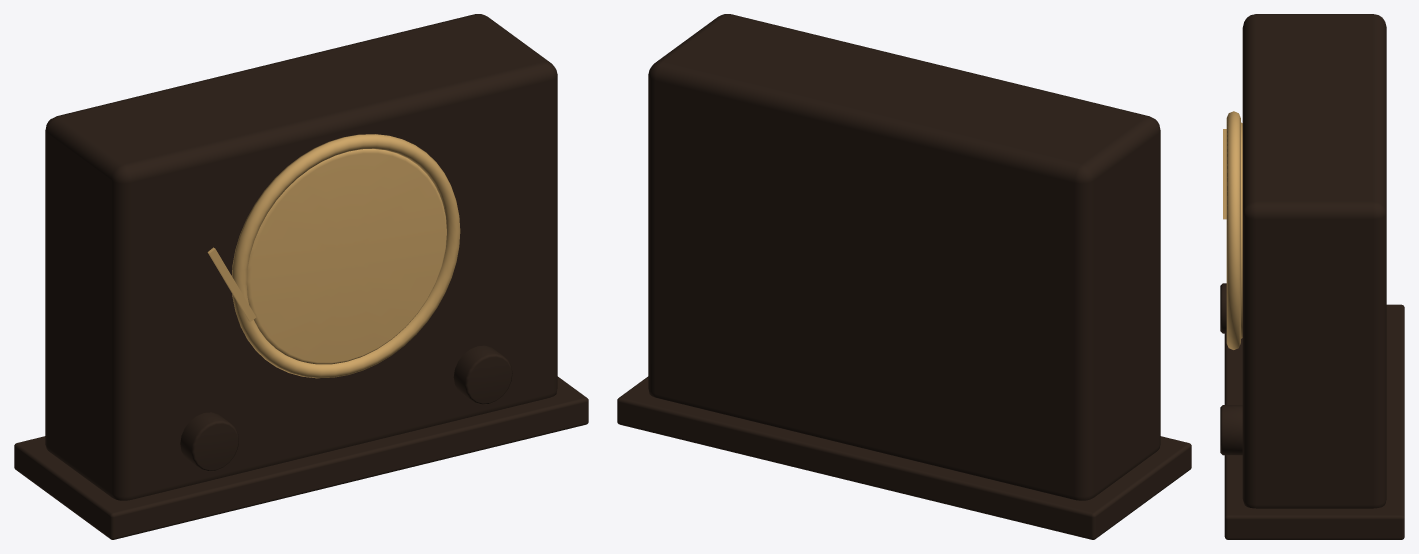
The picture shows the model from 3 angles, left to right: view 1: azimuth 30°, elevation 25°; view 2: azimuth 150°, elevation 25°; view 3: azimuth 270°, elevation 25°; orthographic projection. The views are drawn at different scales.
Size of the model in its own units: 0.56 by 0.4 by 0.205.
